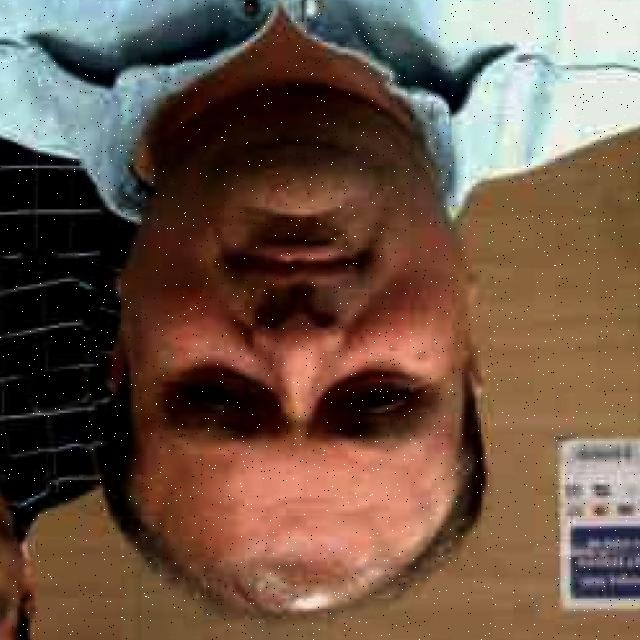puffy_eyes: (192, 367, 278, 411), (324, 370, 416, 394)
